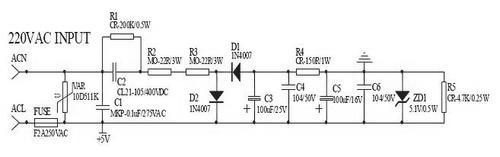cap1: (109, 61, 120, 83), (245, 92, 264, 104), (95, 101, 110, 113), (356, 82, 373, 92), (280, 83, 297, 92), (319, 94, 334, 104)
diode: (394, 85, 410, 108), (229, 60, 244, 84), (208, 89, 225, 106)
gnd: (354, 50, 374, 65)
res1: (60, 79, 70, 116), (32, 117, 60, 129), (147, 66, 174, 78), (183, 67, 212, 78), (440, 78, 448, 117), (108, 32, 136, 42), (294, 68, 322, 77)
